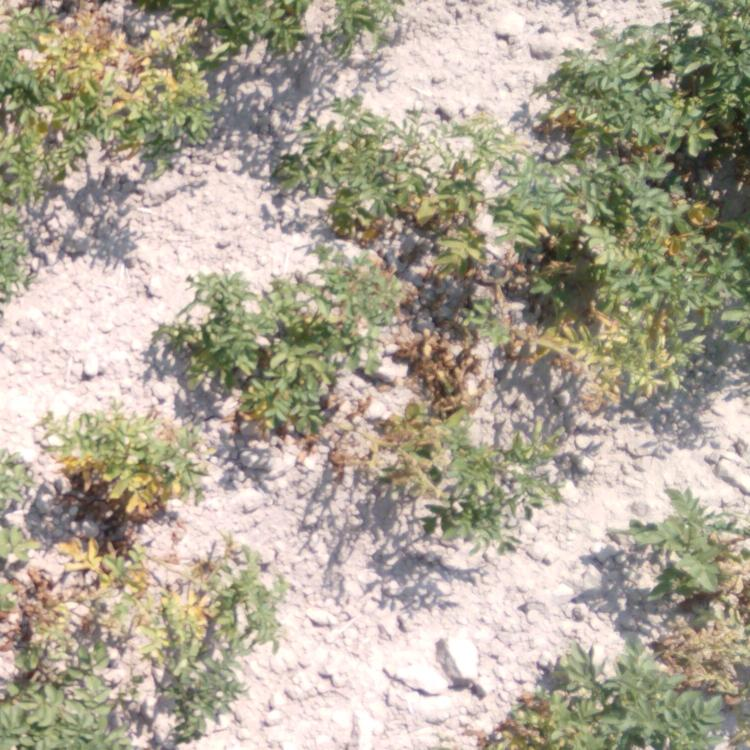healthy: (205, 287, 344, 423), (586, 13, 747, 71), (544, 664, 649, 742), (220, 5, 402, 49), (497, 164, 599, 225), (26, 694, 140, 741)
stressed: (6, 1, 194, 199), (366, 239, 497, 508), (29, 548, 248, 677), (510, 277, 677, 420), (287, 110, 477, 224), (644, 508, 745, 716), (54, 403, 187, 535), (551, 86, 727, 157), (630, 180, 733, 261)
